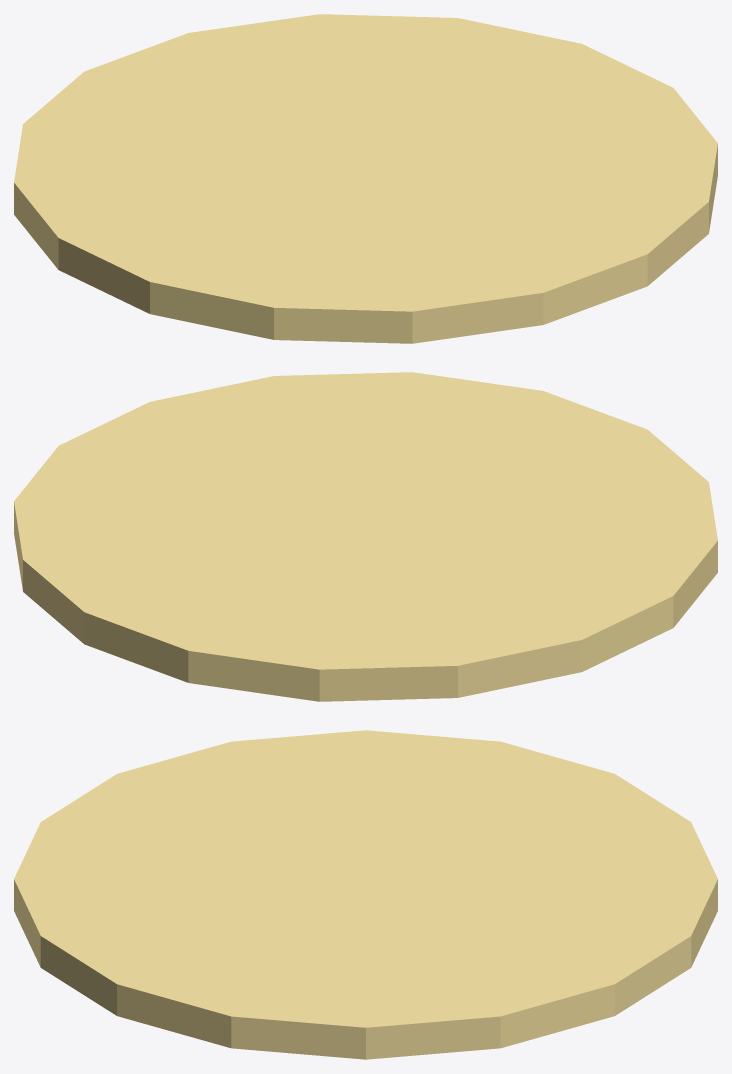
Rendered from celestial_sun.obj.
The picture shows the model from 3 angles, top to bottom: view 1: azimuth 30°, elevation 25°; view 2: azimuth 150°, elevation 25°; view 3: azimuth 270°, elevation 25°; orthographic projection.
Visible parts, largest first — view 1: CelestialSun; view 2: CelestialSun; view 3: CelestialSun.
Boxes of the visible parts, bbox=[...] form: CelestialSun: bbox=[14, 14, 717, 343]; CelestialSun: bbox=[14, 372, 717, 701]; CelestialSun: bbox=[14, 730, 717, 1059].
Size of the model in its own units: 10 by 0.5 by 10.
